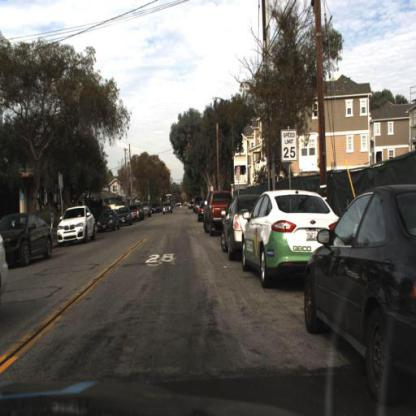car: (303, 187, 416, 409), (241, 191, 340, 295), (241, 190, 342, 291), (3, 208, 58, 269), (221, 190, 265, 263), (1, 210, 56, 268), (222, 192, 261, 262), (57, 200, 98, 250), (56, 205, 97, 245), (207, 188, 236, 238), (204, 192, 229, 237), (100, 206, 121, 236), (96, 209, 121, 234), (116, 206, 135, 232), (116, 205, 133, 226), (140, 197, 154, 221), (161, 199, 177, 217), (130, 203, 142, 224), (141, 201, 153, 220), (130, 204, 142, 222), (198, 199, 206, 225), (162, 203, 174, 217)
